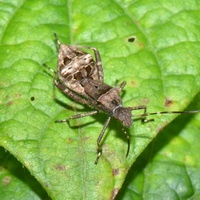insect: (43, 34, 199, 163)
